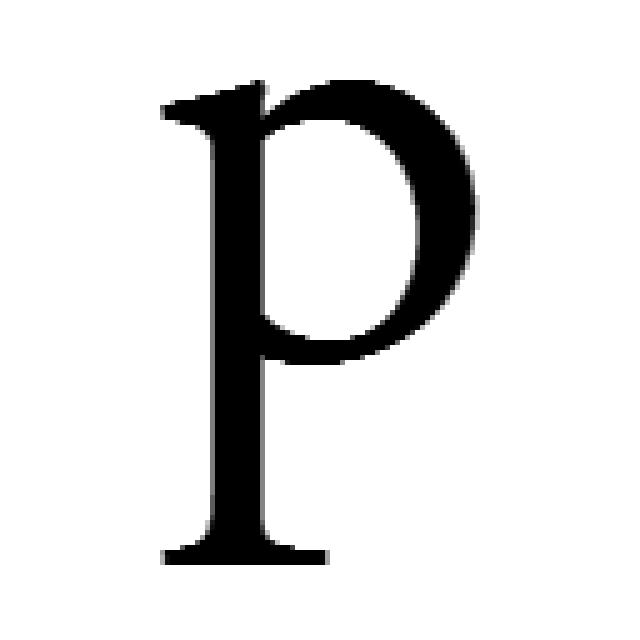P: (160, 80, 480, 570)
